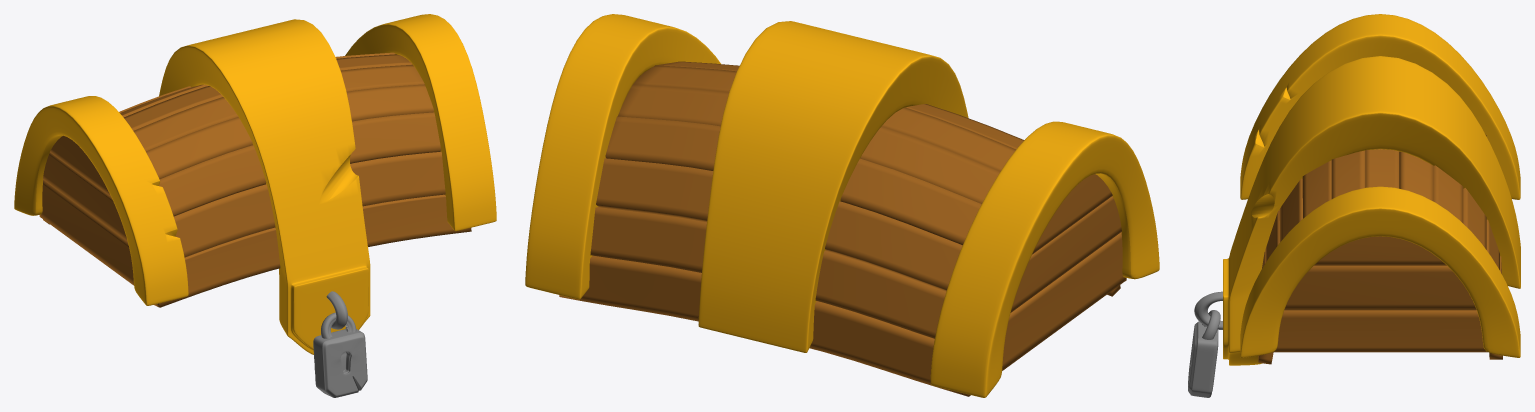
The model's file is chest_top.glb.
The picture shows the model from 3 angles, left to right: view 1: azimuth 30°, elevation 25°; view 2: azimuth 150°, elevation 25°; view 3: azimuth 270°, elevation 25°; orthographic projection. The views are drawn at different scales.
Visible parts, largest first — view 1: Cube.020; view 2: Cube.020; view 3: Cube.020.
Boxes of the visible parts, x1,y1,x2,y2 form: Cube.020: (14, 14, 496, 397); Cube.020: (525, 14, 1159, 397); Cube.020: (1188, 14, 1520, 397).
Size of the model in its own units: 1.1 by 0.8149 by 0.7958.
